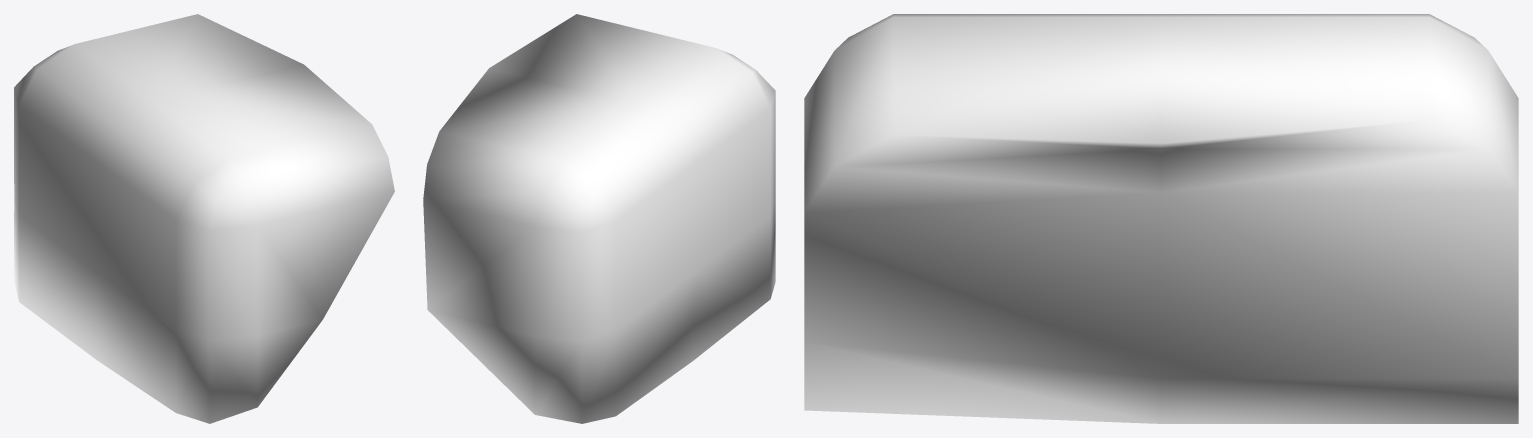
Rendered from WhiteBrickBreak1.obj.
3 renders of one model, left to right at view 1: azimuth 30°, elevation 25°; view 2: azimuth 150°, elevation 25°; view 3: azimuth 270°, elevation 25°, orthographic. The views are drawn at different scales.
Parts seen in each view (by area): view 1: OriginalBrick.013_Cube.022; view 2: OriginalBrick.013_Cube.022; view 3: OriginalBrick.013_Cube.022.
Part boxes in pixels (x1=…): OriginalBrick.013_Cube.022: x1=14, y1=14, x2=394, y2=423; OriginalBrick.013_Cube.022: x1=423, y1=14, x2=775, y2=423; OriginalBrick.013_Cube.022: x1=804, y1=14, x2=1518, y2=423.
Size of the model in its own units: 0.2464 by 0.2802 by 0.4316.
2 materials, 2 textured.
